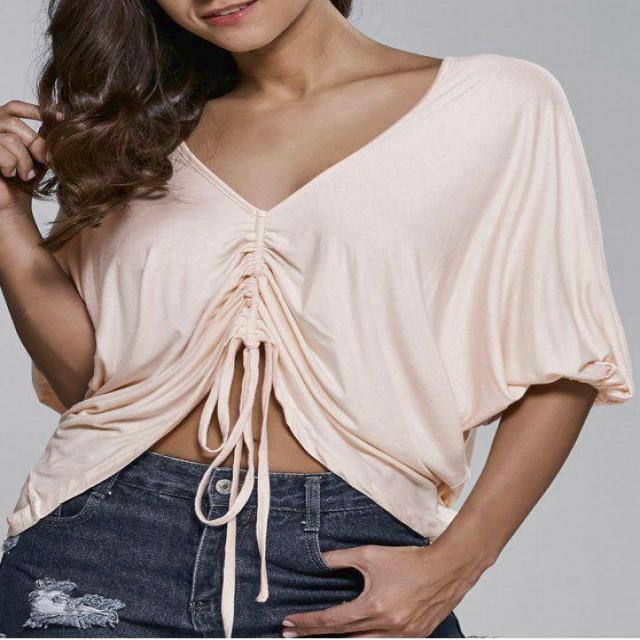Crop_Top: (94, 213, 454, 475)
low_neckline: (79, 54, 501, 339)
